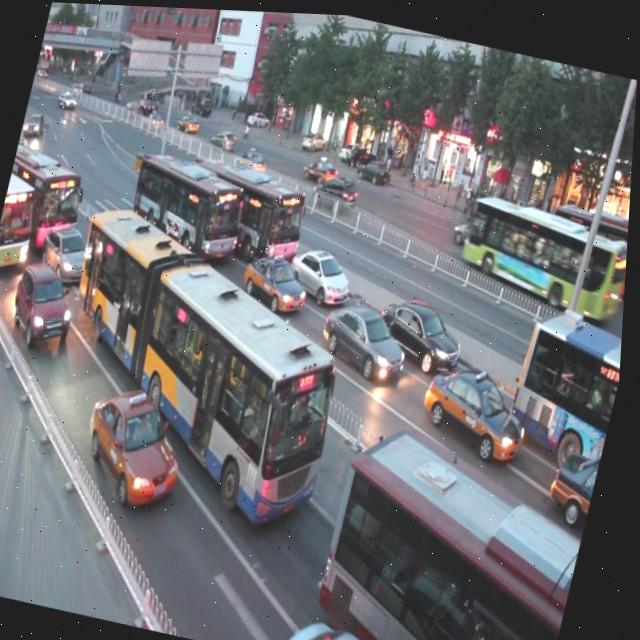car: (79, 377, 201, 510), (418, 344, 543, 461), (317, 283, 418, 379), (377, 279, 476, 367), (10, 258, 88, 348), (282, 600, 437, 640), (239, 235, 317, 311), (285, 227, 361, 303), (546, 431, 608, 521), (39, 220, 102, 288)
van: (34, 188, 377, 527), (306, 408, 606, 640), (503, 300, 627, 470), (121, 134, 257, 267), (182, 139, 319, 265), (0, 132, 94, 243), (0, 159, 50, 281)
